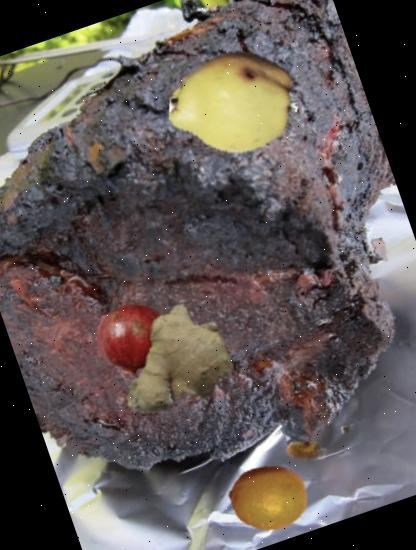Ginger: (94, 286, 252, 444)
Lemon: (218, 448, 318, 548)
Pomegranate: (86, 292, 180, 386)
Quince: (153, 20, 316, 184)
